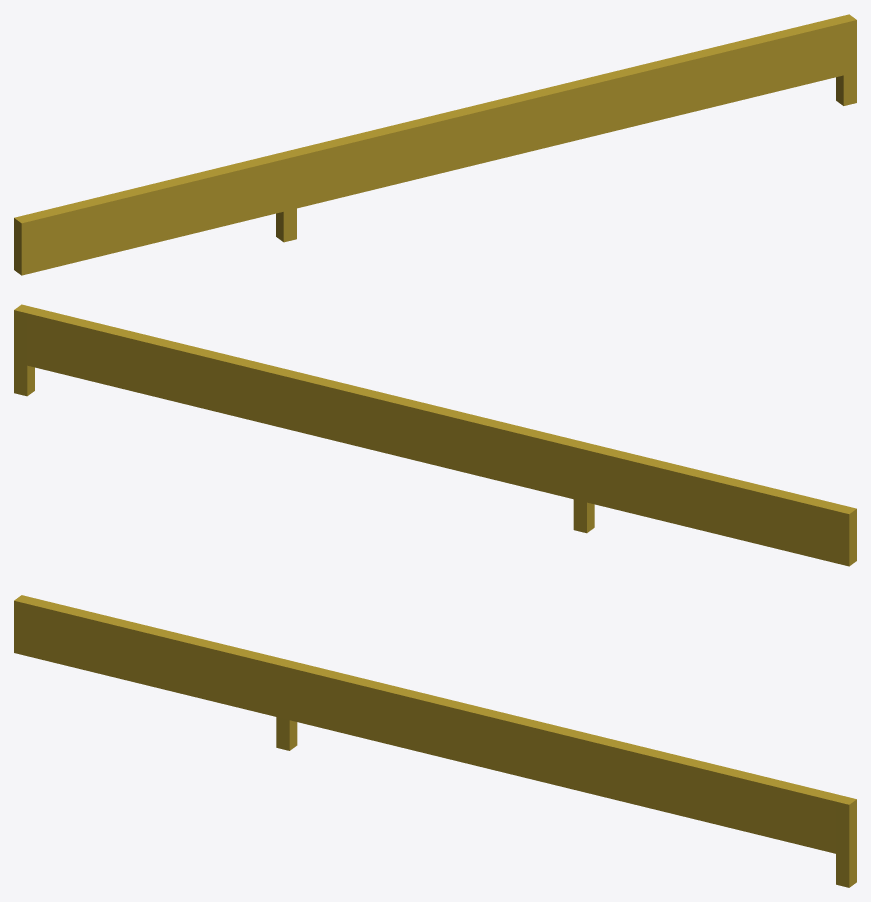
The model's file is rot6_fence.gltf.
3 renders of one model, top to bottom at view 1: azimuth 30°, elevation 25°; view 2: azimuth 150°, elevation 25°; view 3: azimuth 330°, elevation 25°, orthographic.
Visible parts, largest first — view 1: rot6.fence; view 2: rot6.fence; view 3: rot6.fence.
Part boxes in pixels (x1,y1,x2,y2): rot6.fence: (14, 14, 856, 275); rot6.fence: (14, 304, 856, 566); rot6.fence: (14, 595, 856, 887).
Bounding box in the file's own units: 12.54 × 1.19 × 0.2102.
